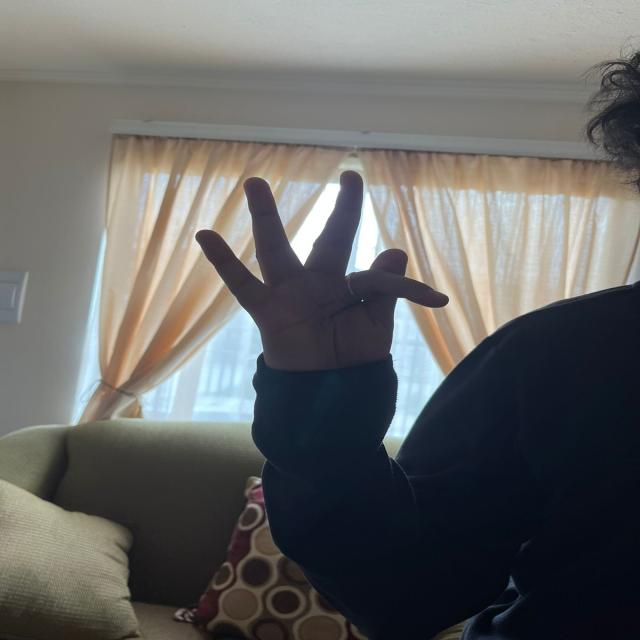F: (189, 162, 460, 391)
